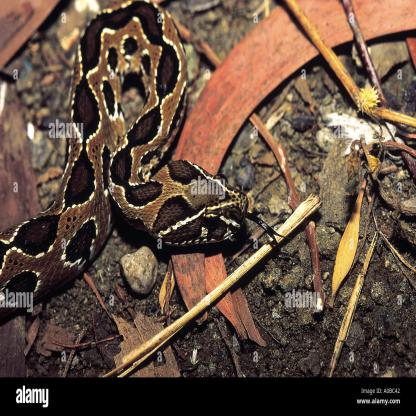Snake: (0, 0, 253, 301)
